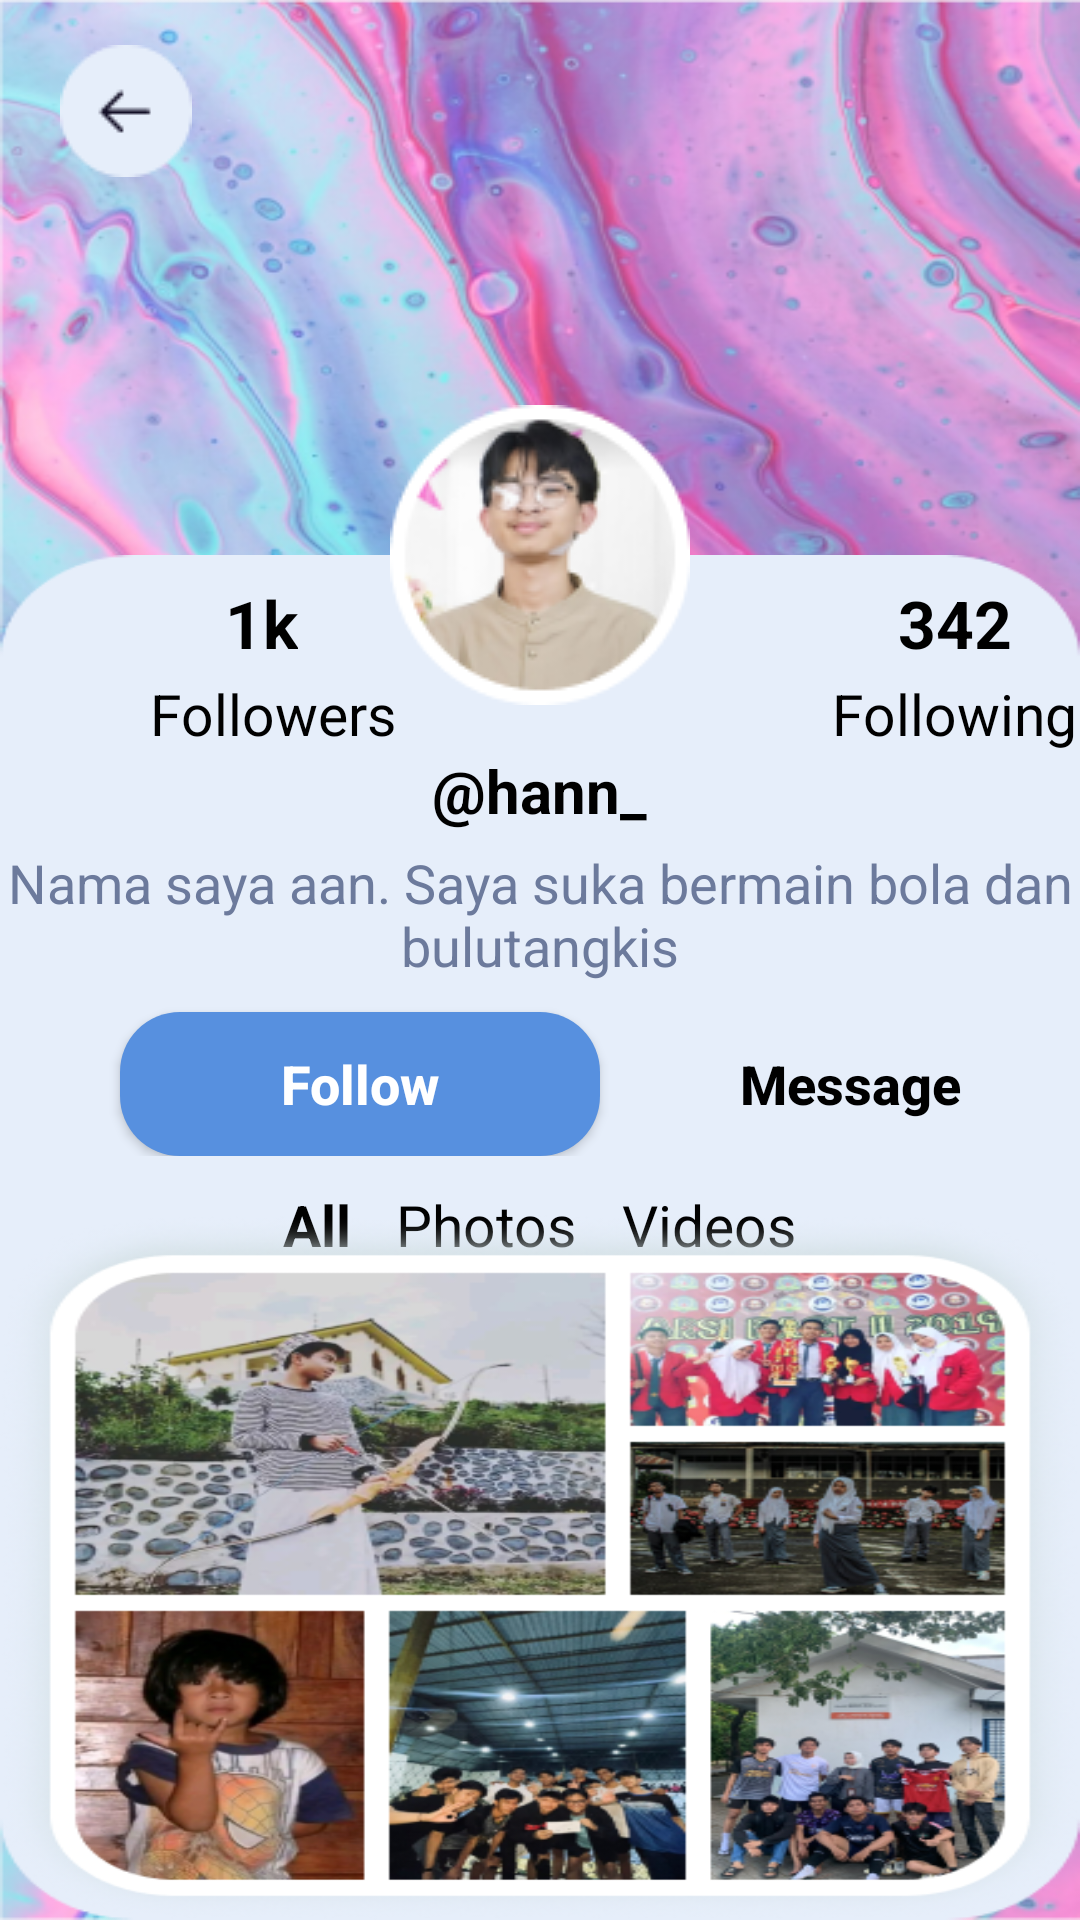

Locate icon controls on the screen. Image size 1080×1920, boxes as [left=x1, top=y1, right=x2, bottom=y2].
left: [left=60, top=45, right=192, bottom=177]
